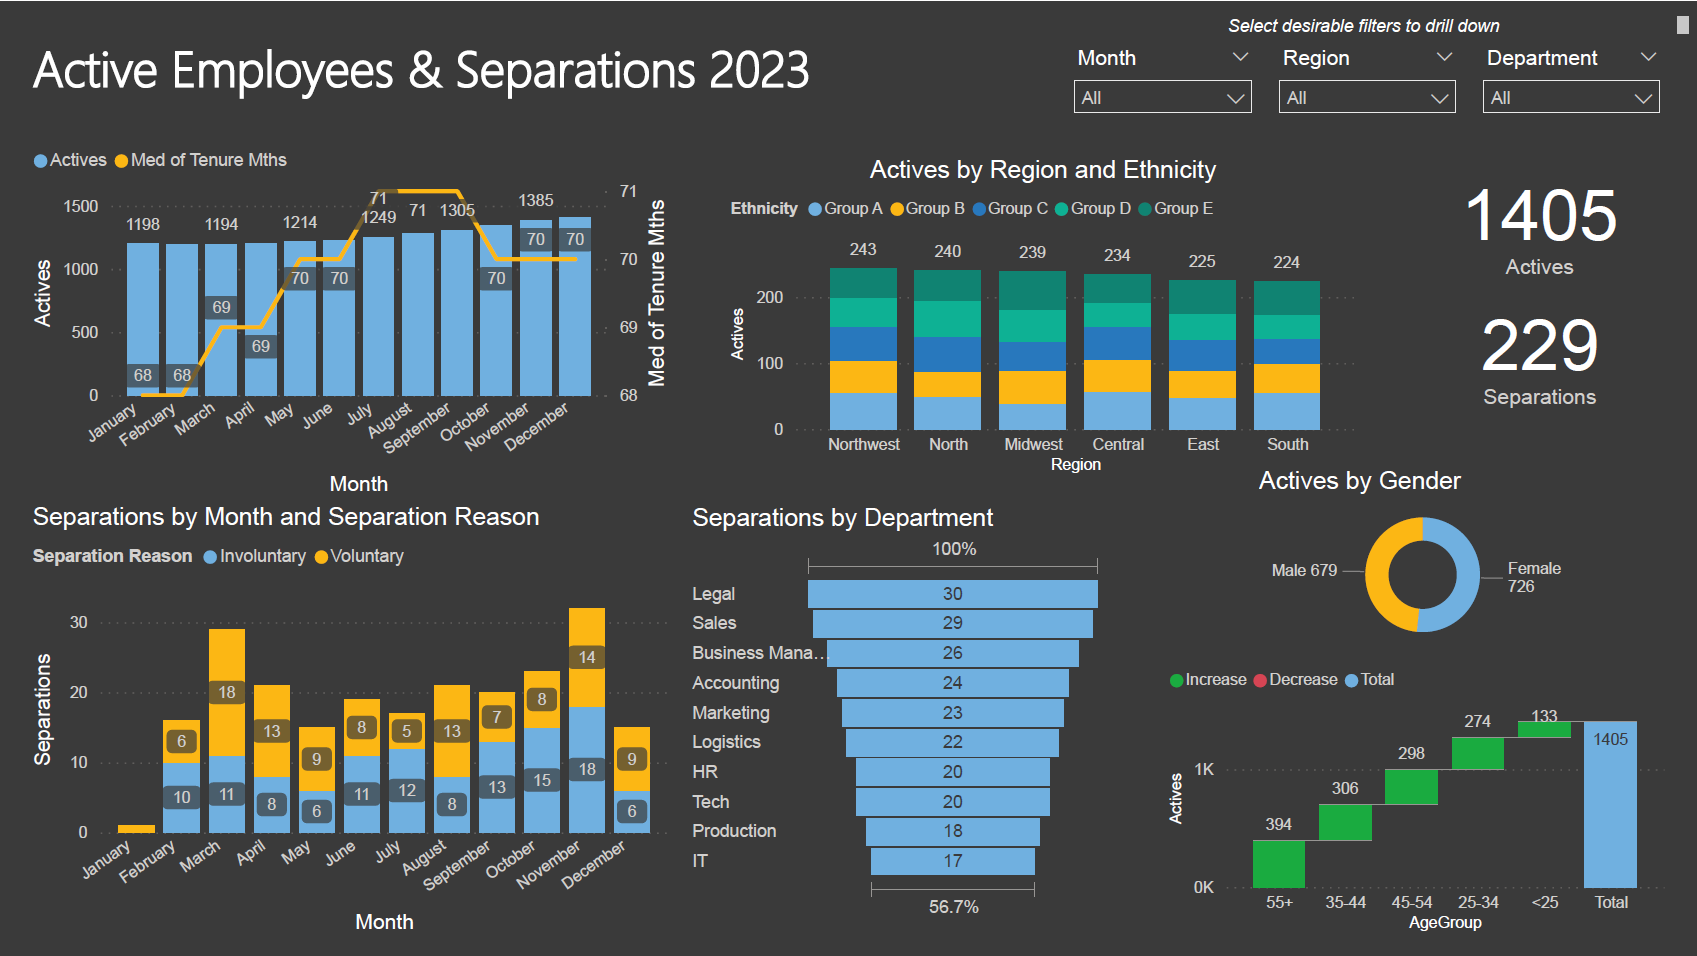

The dashboard page shown, as its layout file describes it:
{"tool":"powerbi","page":{"name":"Actives and Separations","canvas":[1280,720],"ordinal":2},"visuals":[{"type":"textbox","box":[18.8,18.8,659.5,61],"z":0},{"type":"lineClusteredColumnComboChart","fields":{"Category":["Calendar.Date.Variation.Date Hierarchy.Month"],"Y":["Reports.Actives"],"Y2":["Median(Reports.TenureMonths)"]},"box":[18.8,100,490.7,278.2],"z":1000},{"type":"lineStackedColumnComboChart","fields":{"Category":["Calendar.Date.Variation.Date Hierarchy.Month"],"Y":["Reports.Separations"],"Series":["Unique Separation Reasons.Separation Reason"]},"box":[18.7,378.2,490.4,329.4],"z":2000},{"type":"waterfallChart","fields":{"Category":["Age Groups.AgeGroup"],"Y":["Reports.Actives"]},"box":[876.7,493.4,383.9,214],"z":3000},{"type":"lineStackedColumnComboChart","fields":{"Category":["Reports.Region"],"Series":["Unqiue Ethnicity.Ethnicity"],"Y":["Reports.Actives"]},"box":[546.5,116.4,481,244.2],"z":4000},{"type":"textbox","box":[787.5,6.5,491.5,22],"z":5000},{"type":"donutChart","fields":{"Series":["Reports.Gender"],"Y":["Reports.Actives"]},"box":[945.4,351.4,256.8,141.4],"z":6000},{"type":"slicer","fields":{"Values":["Calendar.Date.Variation.Date Hierarchy.Month"]},"box":[800.5,28.5,154.3,71.3],"z":7000},{"type":"slicer","fields":{"Values":["Unqiue Regions.Region"]},"box":[954.8,28.5,154.3,71.3],"z":8000},{"type":"slicer","fields":{"Values":["Unqiue Departments.Department"]},"box":[1109.1,28.5,154.3,71.3],"z":9000},{"type":"card","fields":{"Values":["Reports.Separations"]},"box":[1063.4,215.3,197.1,98.6],"z":10000},{"type":"funnel","fields":{"Category":["Unqiue Departments.Department"],"Y":["Reports.Separations"]},"box":[517.4,378.7,320.3,317.7],"z":11000},{"type":"card","fields":{"Values":["Reports.Actives"]},"box":[1063.4,116.7,197.1,98.6],"z":12000}]}

Visuals, with their boxes in screenshot pixels (x1, y1, x2, y2), scaled from the page's 1280x720 canvas onto the 1697x956 screenshot:
textbox: bbox(25, 25, 899, 106)
lineClusteredColumnComboChart - Calendar.Date.Variation.Date Hierarchy.Month x Reports.Actives: bbox(25, 133, 675, 502)
lineStackedColumnComboChart - Calendar.Date.Variation.Date Hierarchy.Month x Reports.Separations: bbox(25, 502, 675, 940)
waterfallChart - Age Groups.AgeGroup x Reports.Actives: bbox(1162, 655, 1671, 939)
lineStackedColumnComboChart - Reports.Region x Unqiue Ethnicity.Ethnicity: bbox(725, 155, 1362, 479)
textbox: bbox(1044, 9, 1696, 38)
donutChart - Reports.Gender x Reports.Actives: bbox(1253, 467, 1594, 654)
slicer - Calendar.Date.Variation.Date Hierarchy.Month: bbox(1061, 38, 1266, 133)
slicer - Unqiue Regions.Region: bbox(1266, 38, 1470, 133)
slicer - Unqiue Departments.Department: bbox(1470, 38, 1675, 133)
card - Reports.Separations: bbox(1410, 286, 1671, 417)
funnel - Unqiue Departments.Department x Reports.Separations: bbox(686, 503, 1111, 925)
card - Reports.Actives: bbox(1410, 155, 1671, 286)
